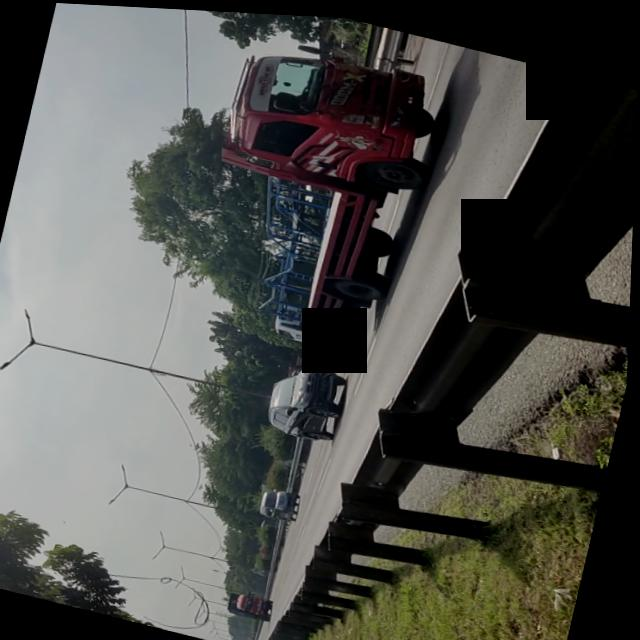Golongan I: (260, 351, 361, 448)
Golongan II: (183, 24, 453, 347)
